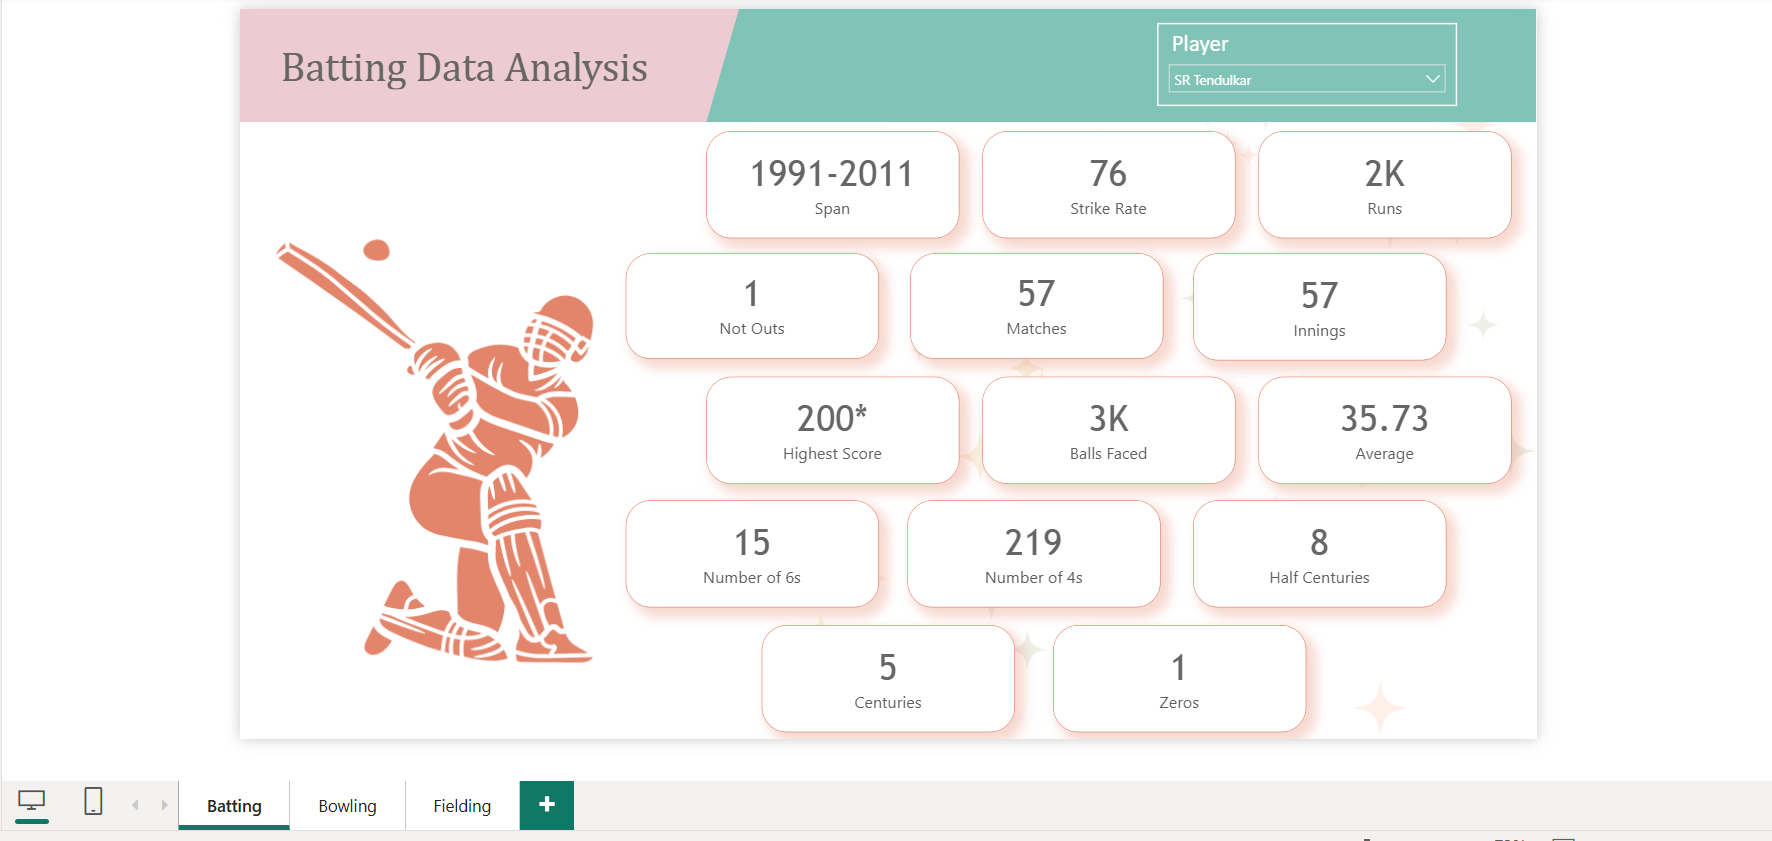

This screenshot's page, from the dashboard's own definition file:
{"tool":"powerbi","page":{"name":"Batting","canvas":[1280,720],"ordinal":0},"visuals":[{"type":"shape","box":[0,0,639.4,111.7],"z":0},{"type":"shape","box":[460.7,0,819.5,111.7],"z":1000},{"type":"shape","box":[1179.6,0,100.5,111.7],"z":2000},{"type":"slicer","fields":{"Values":["Batting.Player"]},"box":[906,14,296,82.4],"z":3000},{"type":"cardVisual","fields":{"Data":["Min(Batting.Span)"]},"box":[460.8,120,250.4,106.1],"z":4000},{"type":"cardVisual","fields":{"Data":["Sum(Batting.SR)"]},"box":[733.5,120,250.4,106.1],"z":5000},{"type":"cardVisual","fields":{"Data":["Sum(Batting.Runs)"]},"box":[1006.2,120,250.4,106.1],"z":6000},{"type":"cardVisual","fields":{"Data":["Sum(Batting.NO)"]},"box":[380.8,241.7,250,104.3],"z":7000},{"type":"cardVisual","fields":{"Data":["Sum(Batting.Mat)"]},"box":[662.1,241.7,250,104.3],"z":8000},{"type":"cardVisual","fields":{"Data":["Sum(Batting.Inns)"]},"box":[941.6,241.7,250,106],"z":9000},{"type":"cardVisual","fields":{"Data":["Min(Batting.HS)"]},"box":[460.8,362.6,250.4,106.1],"z":10000},{"type":"cardVisual","fields":{"Data":["Sum(Batting.BF)"]},"box":[732.5,362.6,250.4,106.1],"z":11000},{"type":"cardVisual","fields":{"Data":["Sum(Batting.Ave)"]},"box":[1005.4,362.6,250.4,106.1],"z":12000},{"type":"cardVisual","fields":{"Data":["Sum(Batting.6s)"]},"box":[380.8,484.8,250.4,106.1],"z":13000},{"type":"cardVisual","fields":{"Data":["Sum(Batting.4s)"]},"box":[659,484.8,250.4,106.1],"z":14000},{"type":"cardVisual","fields":{"Data":["Sum(Batting.50)"]},"box":[940.6,484.8,250.4,106.1],"z":15000},{"type":"cardVisual","fields":{"Data":["Sum(Batting.0)"]},"box":[803.3,608.5,250.4,106.1],"z":16000},{"type":"cardVisual","fields":{"Data":["Sum(Batting.100)"]},"box":[514.7,608.5,250.4,106.1],"z":17000}]}

Visuals, with their boxes on the page's 1280x720 design canvas (x1, y1, x2, y2). These are canvas units, not pixel positions in the 1772x841 screenshot, which may show the page scaled, cropped or inside an application window:
shape: select_region(0, 0, 639, 112)
shape: select_region(461, 0, 1280, 112)
shape: select_region(1180, 0, 1280, 112)
slicer - Batting.Player: select_region(906, 14, 1202, 96)
cardVisual - Min(Batting.Span): select_region(461, 120, 711, 226)
cardVisual - Sum(Batting.SR): select_region(734, 120, 984, 226)
cardVisual - Sum(Batting.Runs): select_region(1006, 120, 1257, 226)
cardVisual - Sum(Batting.NO): select_region(381, 242, 631, 346)
cardVisual - Sum(Batting.Mat): select_region(662, 242, 912, 346)
cardVisual - Sum(Batting.Inns): select_region(942, 242, 1192, 348)
cardVisual - Min(Batting.HS): select_region(461, 363, 711, 469)
cardVisual - Sum(Batting.BF): select_region(732, 363, 983, 469)
cardVisual - Sum(Batting.Ave): select_region(1005, 363, 1256, 469)
cardVisual - Sum(Batting.6s): select_region(381, 485, 631, 591)
cardVisual - Sum(Batting.4s): select_region(659, 485, 909, 591)
cardVisual - Sum(Batting.50): select_region(941, 485, 1191, 591)
cardVisual - Sum(Batting.0): select_region(803, 608, 1054, 715)
cardVisual - Sum(Batting.100): select_region(515, 608, 765, 715)
